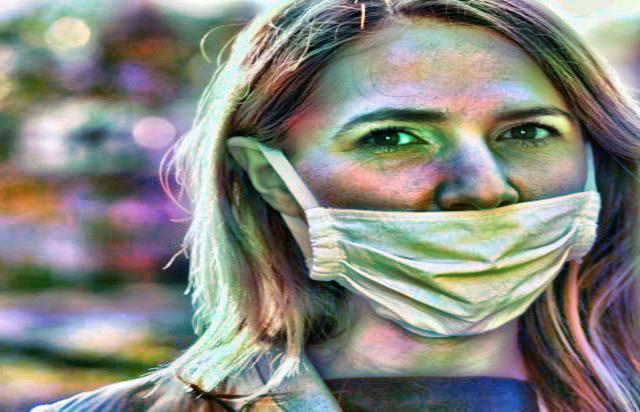mask_weared_incorrect: (190, 1, 603, 341)
